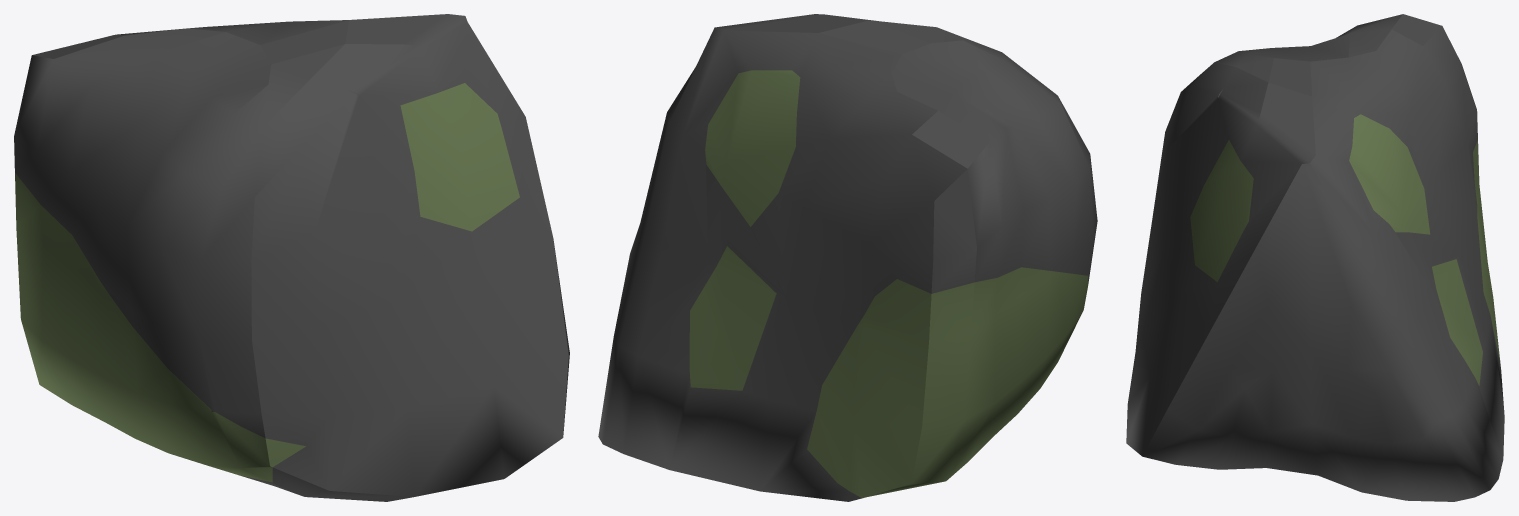
File: Rock small 1 SB1.fbx
The picture shows the model from 3 angles, left to right: view 1: azimuth 30°, elevation 25°; view 2: azimuth 150°, elevation 25°; view 3: azimuth 270°, elevation 25°; orthographic projection. The views are drawn at different scales.
Visible parts, largest first — view 1: rock.008; view 2: rock.008; view 3: rock.008.
Part boxes in pixels (<box>): rock.008: <box>14,14,569,501</box>; rock.008: <box>598,14,1097,501</box>; rock.008: <box>1126,14,1504,501</box>.
Bounding box in the file's own units: 47.26 × 45.53 × 44.11.
